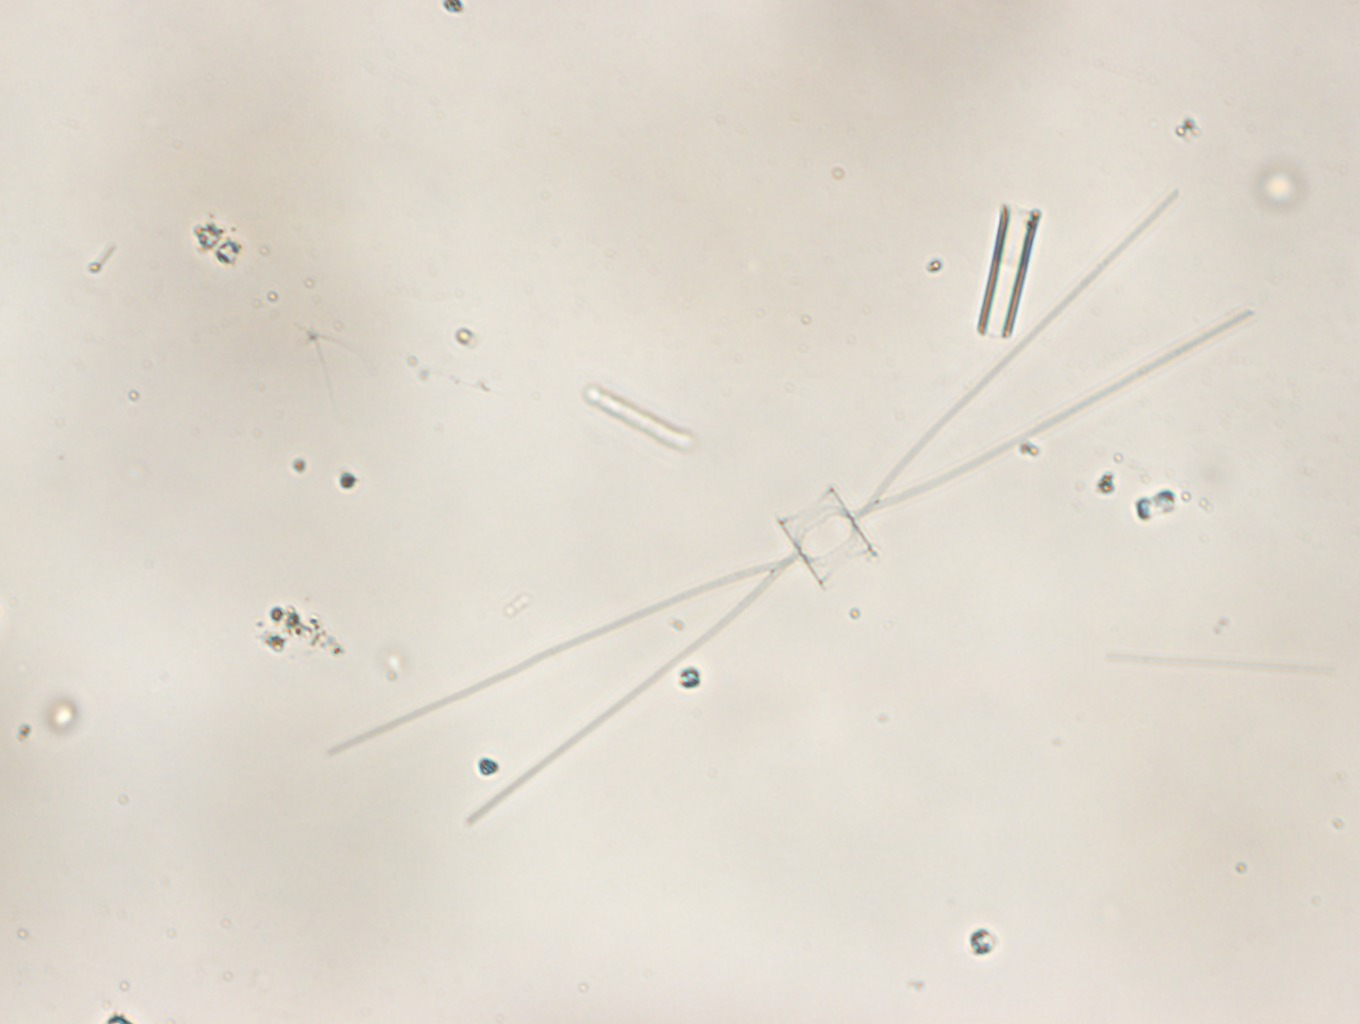chaetoceros: (323, 191, 1266, 824)
